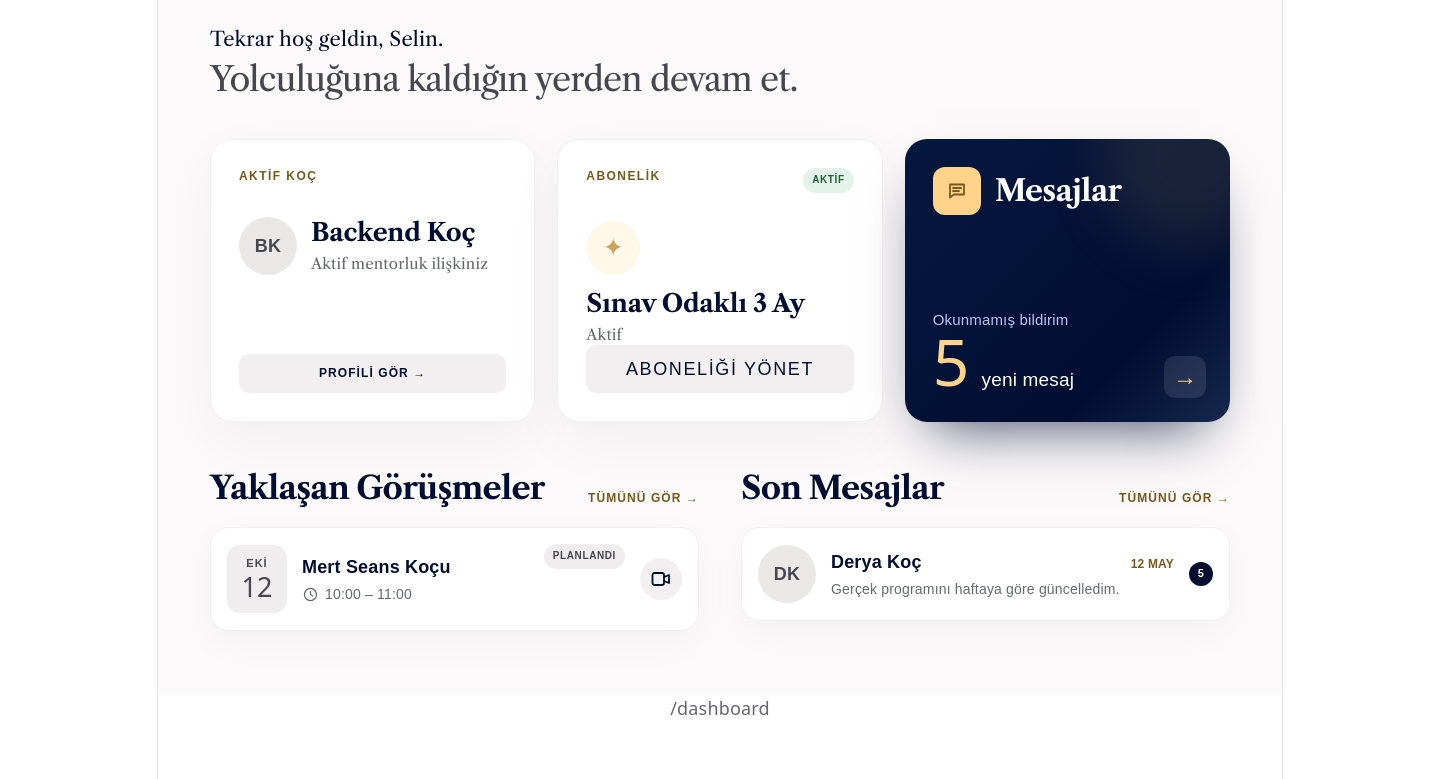
Test case: responsive student dashboard › keeps real subscription data and actions while using the Uniform management surface
Click the button "Aboneliği yönet". click: (720, 369)
box: [586,345,854,393]
(page scrolled)
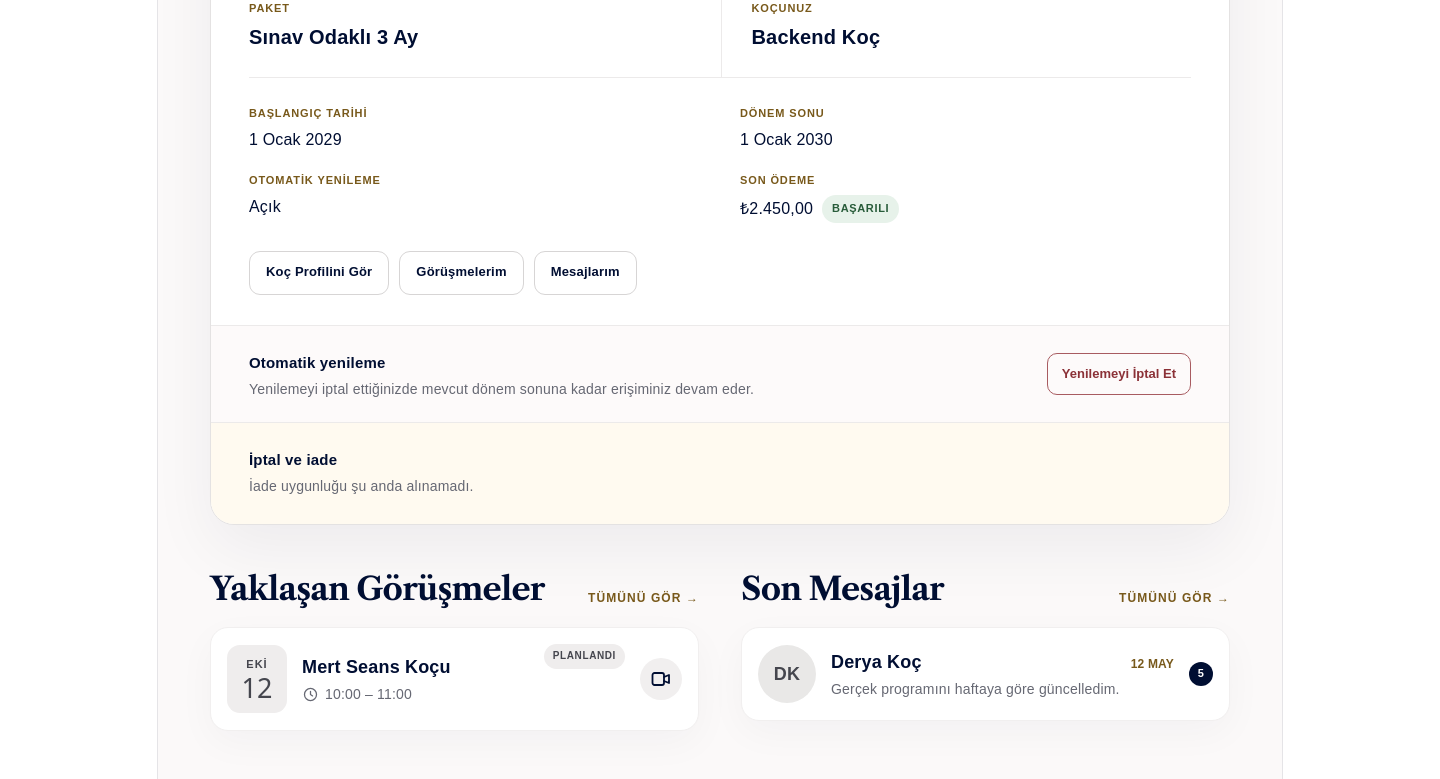
Expected: the text "Backend Koç" is shown, [752,26,880,48]
Now the text "Sınav Odaklı 3 Ay" is shown, box [249,26,418,48]
Now the text "₺2.450,00" is shown, box [740,197,813,220]
Click the button "Yenilemeyi İptal Et". click: (1119, 374)
box: [1047,353,1191,395]
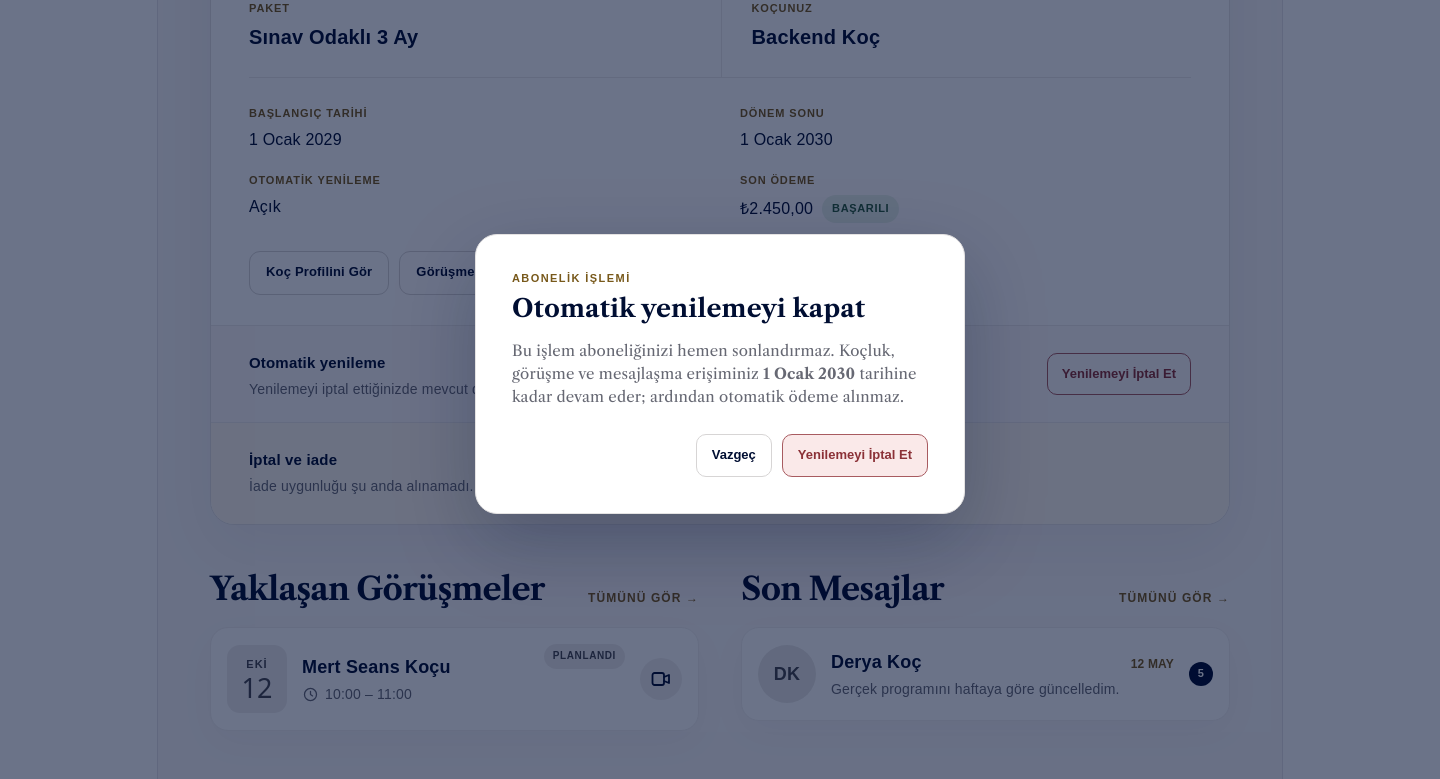
Now the dialog "Otomatik yenilemeyi kapat" shows "aboneliğinizi hemen sonlandırmaz", box [512,341,895,383]
Click the button "Yenilemeyi İptal Et". click: (855, 456)
box: [782,434,928,477]
(page scrolled)
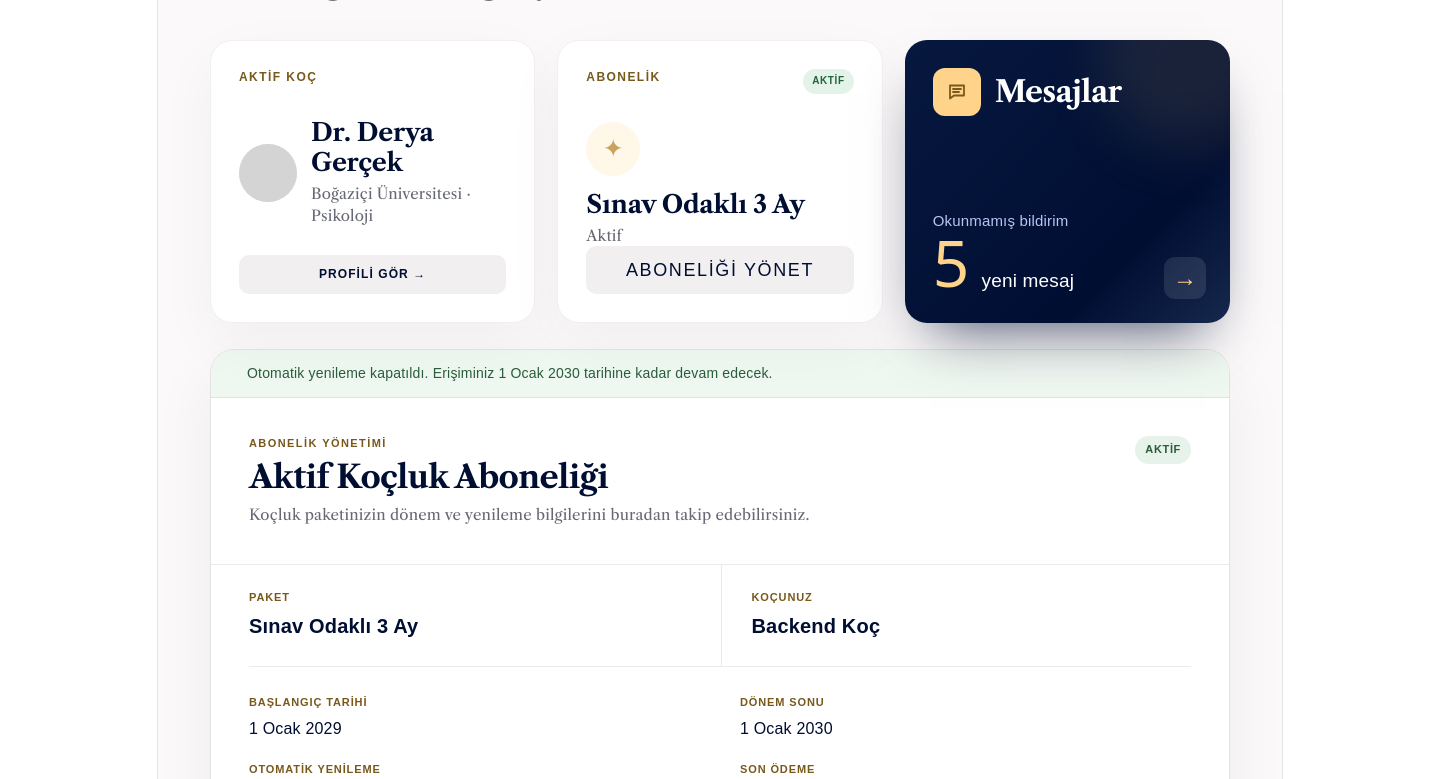
Now the text "Otomatik yenileme kapatıldı" is shown, box [247,365,773,381]
